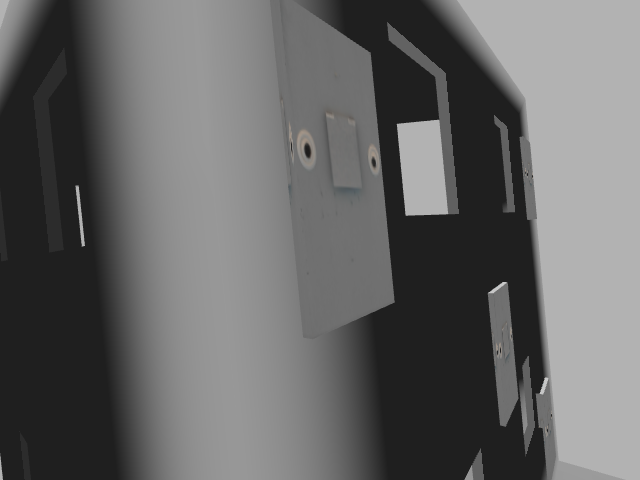facade: (296, 107, 382, 193)
